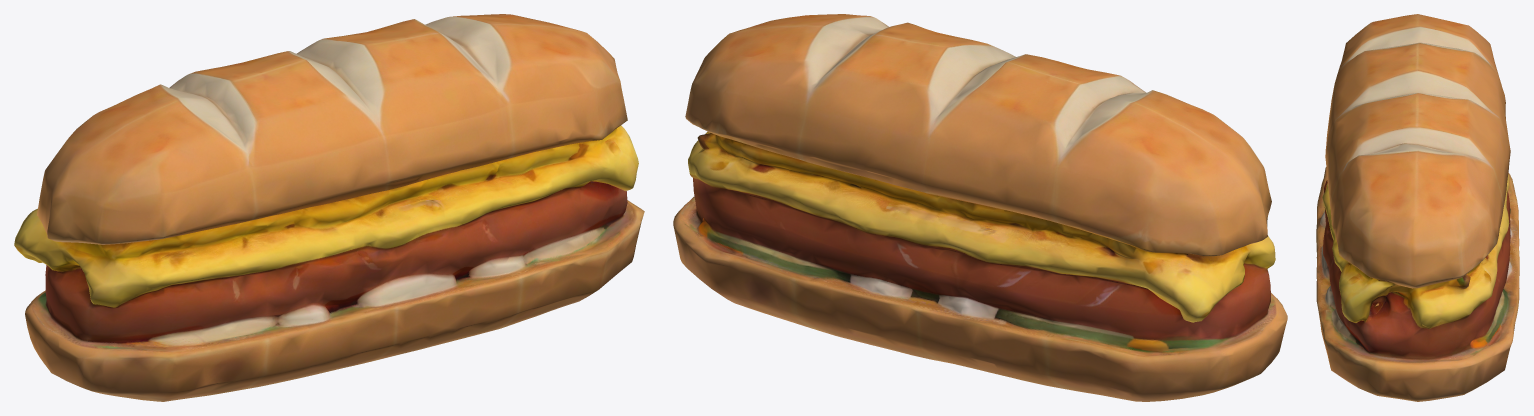
The model's file is Meshy_AI_Low_Poly_Hamburger_0422184241_texture.fbx.
3 renders of one model, left to right at view 1: azimuth 30°, elevation 25°; view 2: azimuth 150°, elevation 25°; view 3: azimuth 270°, elevation 25°, orthographic. The views are drawn at different scales.
Visible parts, largest first — view 1: Mesh_0; view 2: Mesh_0; view 3: Mesh_0.
Boxes of the visible parts, <box> form: Mesh_0: <box>14,14,644,401</box>; Mesh_0: <box>673,14,1287,401</box>; Mesh_0: <box>1316,14,1519,401</box>.
Size of the model in its own units: 200 by 97.54 by 74.48.
1 material, 1 textured.
